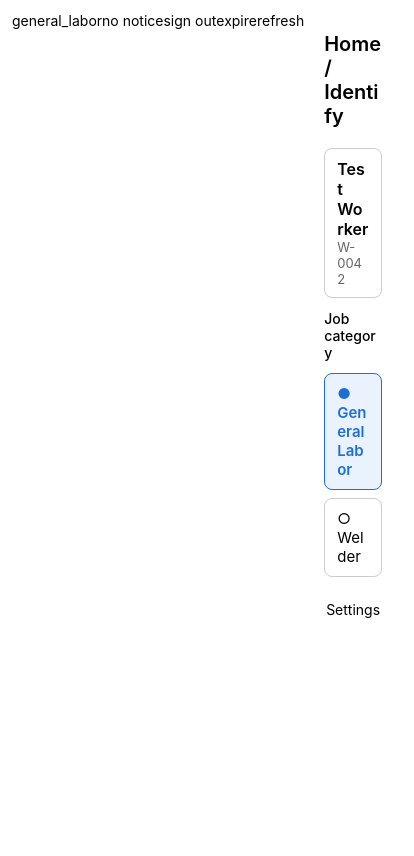
Scenario: refreshJobs › clears the selection when the job was deactivated, and never swaps in another job
Click the text "○ Welder" at x=350, y=538, box [337,509,364,566]
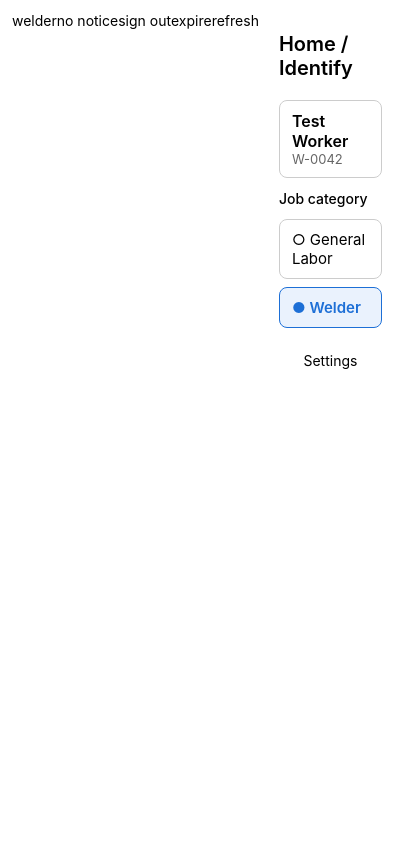
Click the element with test id "refresh" at x=235, y=20, box [212,12,259,29]
(page scrolled)
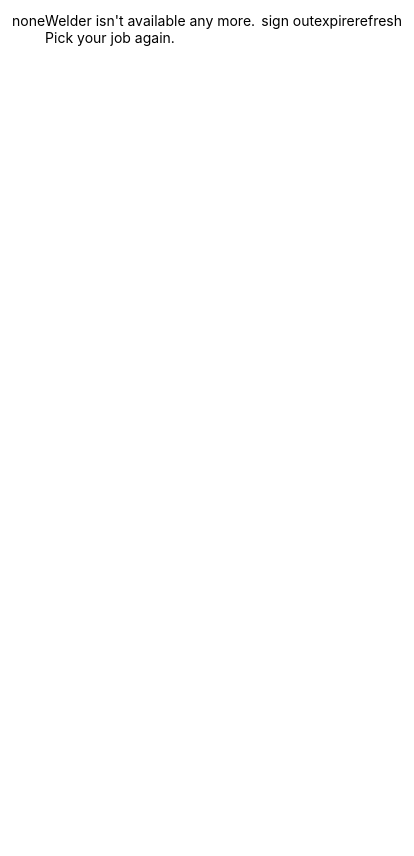
Expected: the text "● General Labor" is not shown
Expected: the text with test id "selected" reads "none", [12,12,45,29]
